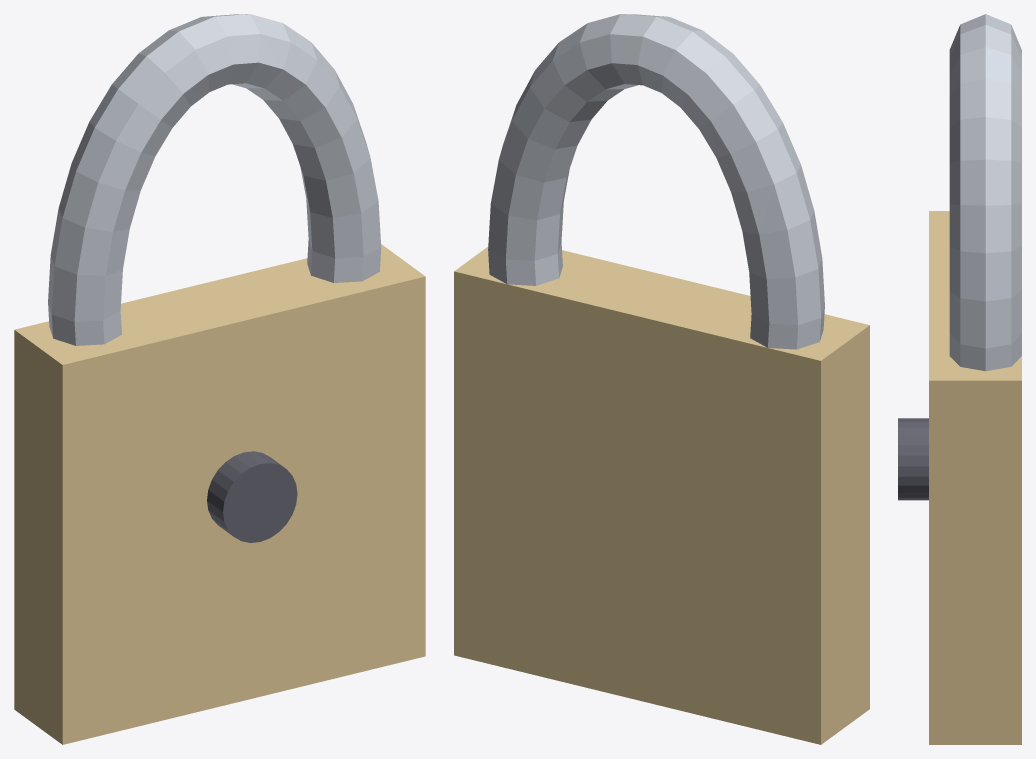
The model's file is ACC_Lock_Charm.glb.
3 views of the same model, side by side, from view 1: azimuth 30°, elevation 25°; view 2: azimuth 150°, elevation 25°; view 3: azimuth 270°, elevation 25° (orthographic). The views are drawn at different scales.
Visible parts, largest first — view 1: ACC_Lock_Charm_1, ACC_Lock_Charm_2, ACC_Lock_Charm_3; view 2: ACC_Lock_Charm_1, ACC_Lock_Charm_2; view 3: ACC_Lock_Charm_1, ACC_Lock_Charm_2, ACC_Lock_Charm_3.
Part boxes in pixels (bbox=[...]): ACC_Lock_Charm_1: bbox=[14, 244, 425, 744]; ACC_Lock_Charm_2: bbox=[48, 14, 381, 345]; ACC_Lock_Charm_3: bbox=[207, 451, 297, 542]; ACC_Lock_Charm_1: bbox=[454, 246, 869, 744]; ACC_Lock_Charm_2: bbox=[488, 14, 824, 349]; ACC_Lock_Charm_1: bbox=[929, 211, 1021, 744]; ACC_Lock_Charm_2: bbox=[949, 14, 1021, 371]; ACC_Lock_Charm_3: bbox=[898, 418, 928, 500].
Size of the model in its own units: 0.039 by 0.068 by 0.012.
